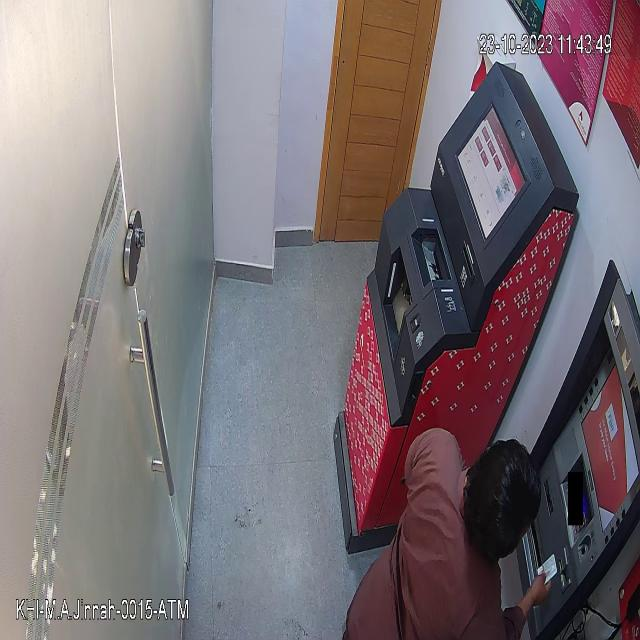atm-card: (532, 544, 560, 587)
